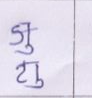u_matra: (16, 45, 35, 55)
